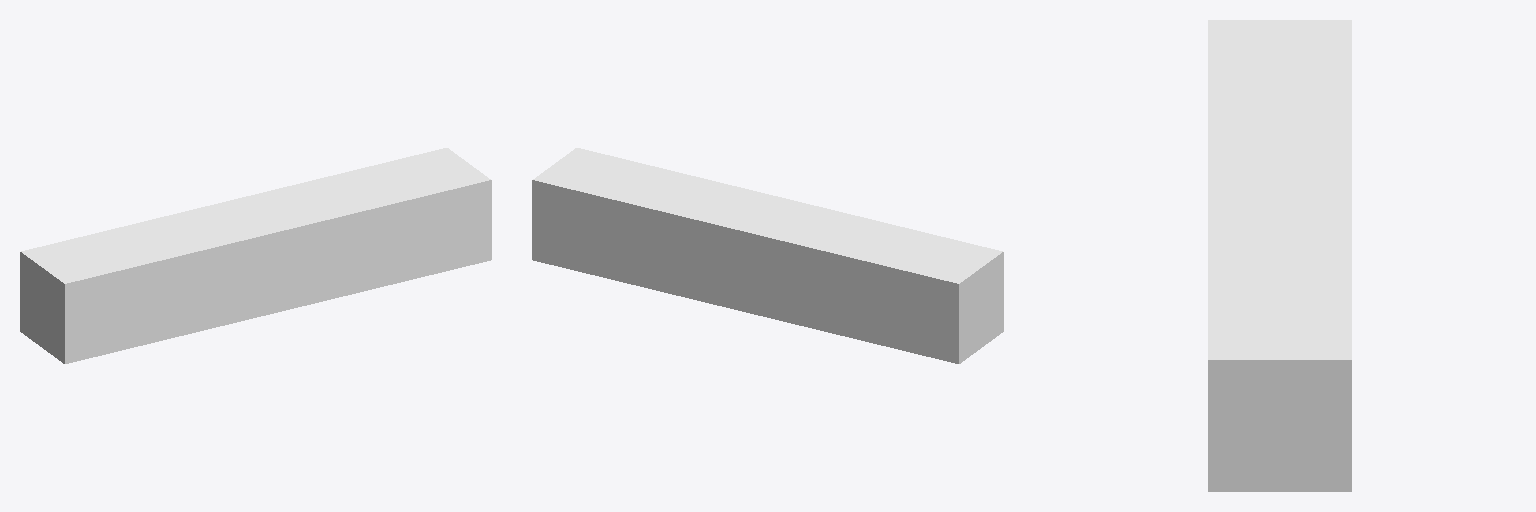
URDF robot description (block_2):
<?xml version="1.0"?>
<robot name="block_2">
  <link name="block_2_base_link">
    <contact>
      <lateral_friction value="1.0"/>
      <spinning_friction value=".001"/>
    </contact>
    <inertial>
      <origin rpy="0 0 0" xyz="0 0 0"/>
      <mass value="0.02"/>
      <inertia ixx="1" ixy="0" ixz="0" iyy="1" iyz="0" izz="1"/>
    </inertial>
    <visual>
      <origin rpy="0 0 0" xyz="0.0 0.0 0.0"/>
      <geometry>
        <box size="0.10 0.018 0.018"/>
      </geometry>
      <material name="blockmat">
        <color rgba="1.0 1.0 1.0 1"/>
      </material>
    </visual>
    <collision>
      <origin rpy="0 0 0" xyz="0.0 0.0 0.0"/>
      <geometry>
        <box size="0.10 0.018 0.018"/>
      </geometry>
    </collision>
  </link>
</robot>

--- Facts derived from the render (not from the file) ---
Views: 3 orthographic renders of the robot side by side, from view 1: azimuth 30°, elevation 25°; view 2: azimuth 150°, elevation 25°; view 3: azimuth 270°, elevation 25°.
Model block_2 with 1 links and 0 joints (none), rooted at block_2_base_link, posed every joint at zero.
Visible links, largest first — view 1: block_2_base_link; view 2: block_2_base_link; view 3: block_2_base_link.
Link boxes in pixels (x1,y1,x2,y2): block_2_base_link: (20,148,491,363); block_2_base_link: (532,148,1003,363); block_2_base_link: (1208,20,1351,491).
Bounding box of the posed robot: 0.1 × 0.018 × 0.018 m (x, y, z).
Geometry: primitives only (box / cylinder / sphere), no mesh files.